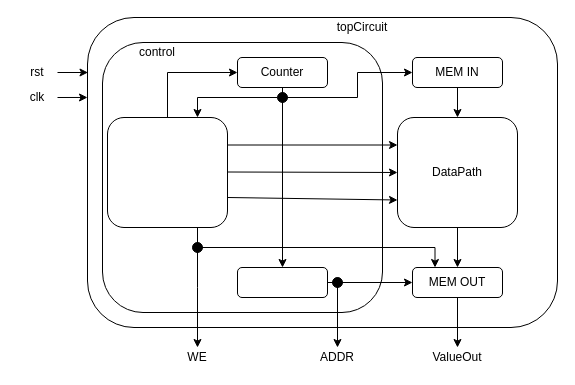
Image size: 575x385. Some labels were removed from this diagram. The shapes that lost their labels are listed below. From the top down, each one's centre as x and y in pixels, then its label:
At point (167, 172): "State Machine".
At point (282, 282): "Delay".
